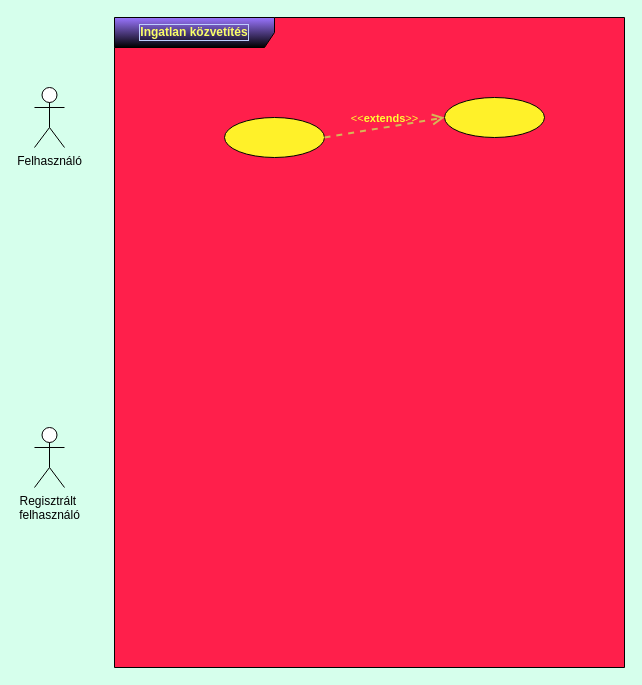
Image size: 642x685. Some labels were removed from this diagram. The shapes that lost their labels are listed below. From the top down, each one's centre as x and y in pixels, then its label:
the point at 274,137: Regisztráció
the point at 494,117: Bejelentkezés
